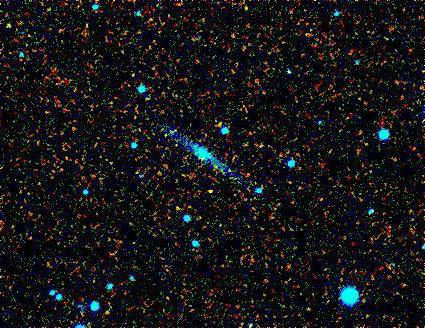star: (195, 178, 225, 208)
